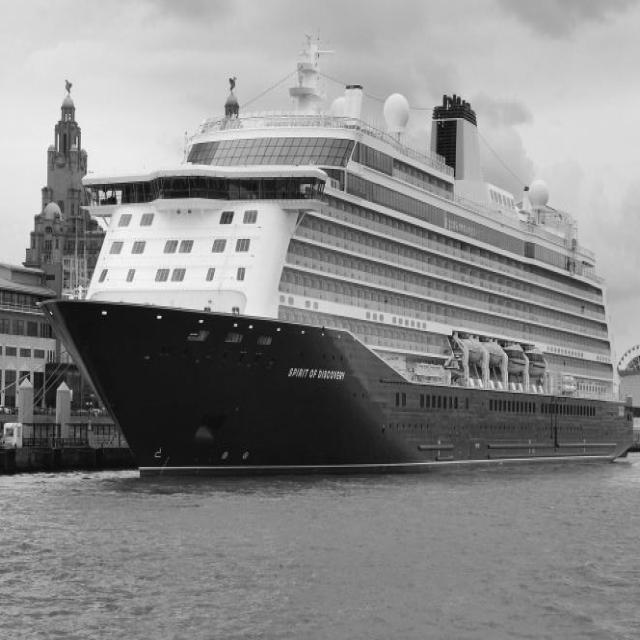cruises: (31, 38, 638, 494)
